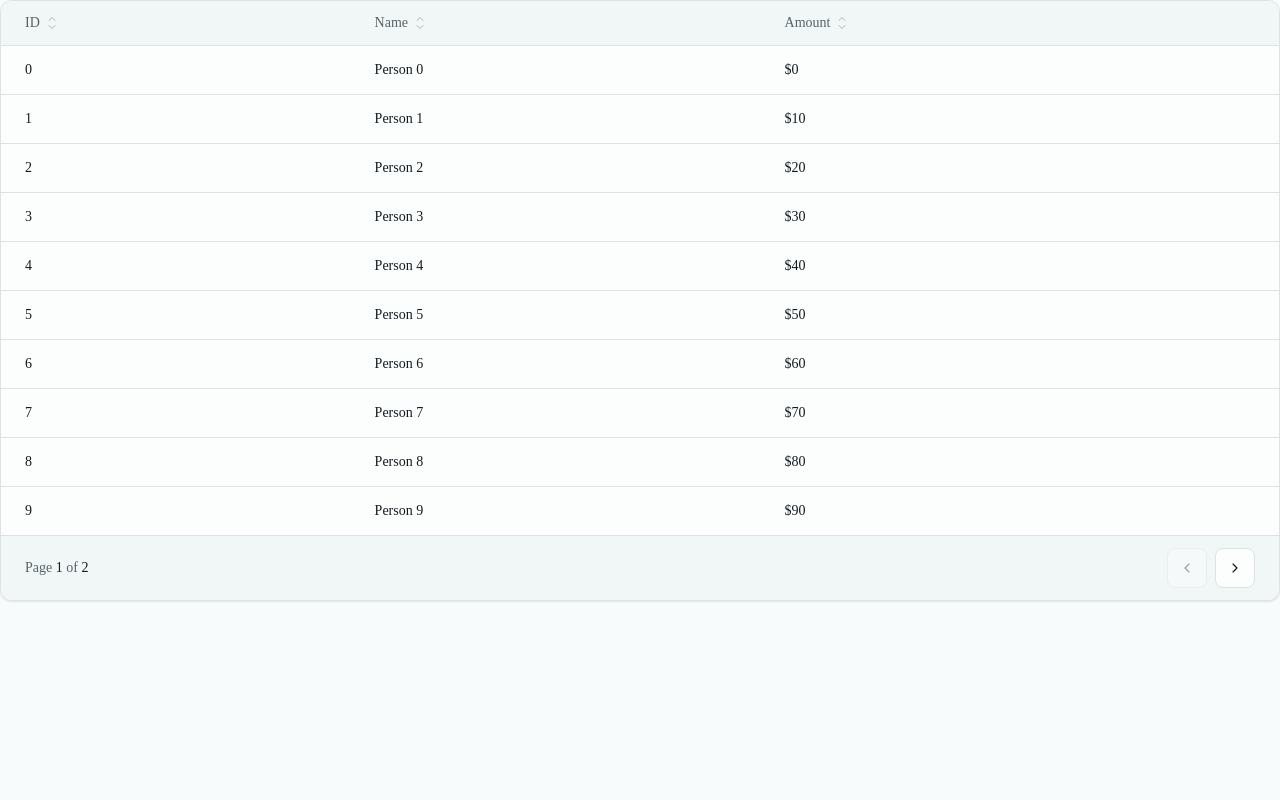
Test: DataTable › paginates data correctly
Expected: the text "Person 0" is shown, [359, 46, 769, 94]
Expected: the text "Person 9" is shown, [359, 487, 769, 535]
# Go to Page 2
Click the button named "Next Page". click: (1235, 568)
box: [1215, 548, 1255, 588]
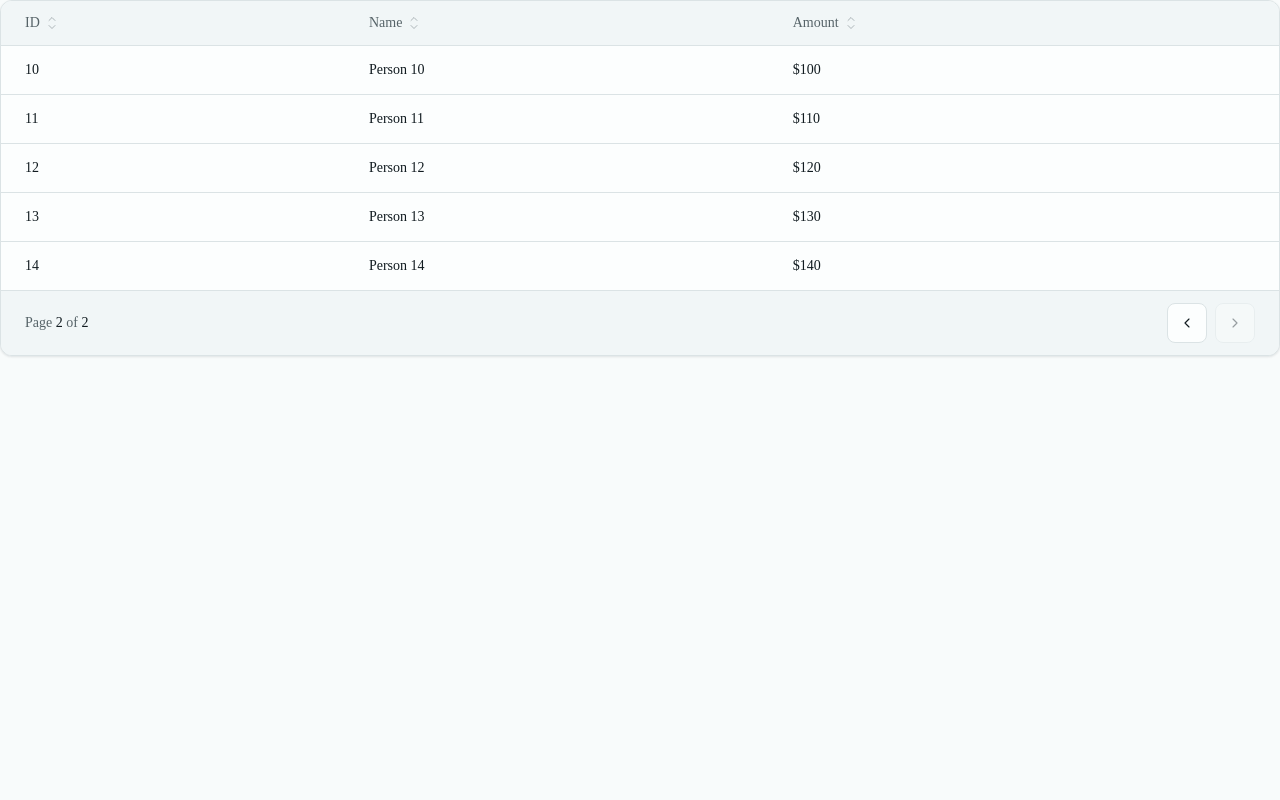
Expected: the text "Person 9" is gone
Expected: the text "Person 10" is shown, [353, 46, 777, 94]
Expected: the text "Person 14" is shown, [353, 242, 777, 290]
